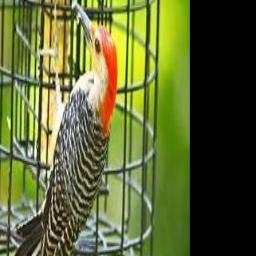Woodpecker: (14, 0, 118, 256)
